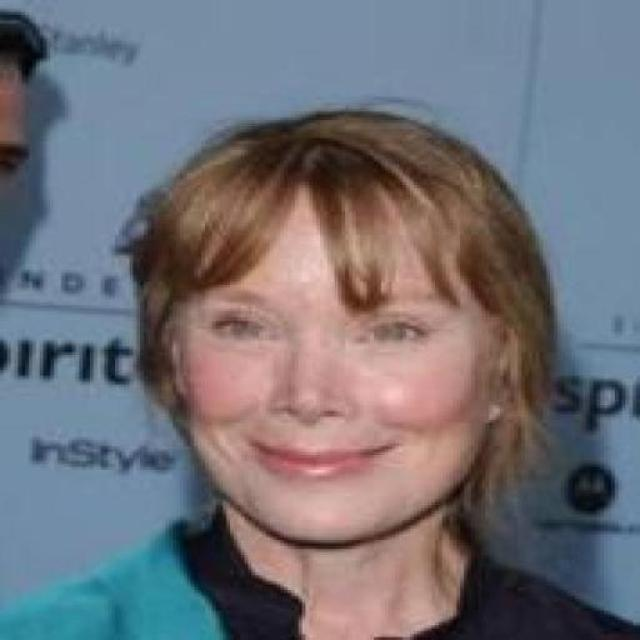bareface: (133, 169, 485, 540)
